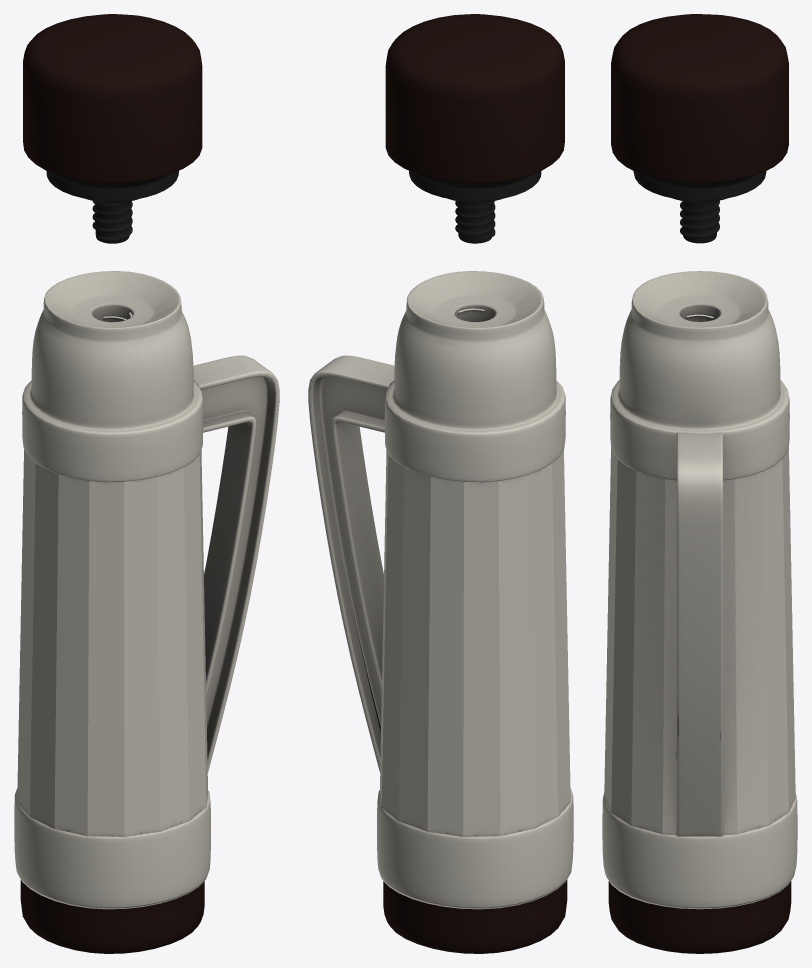
The model's file is objh.glb.
3 renders of one model, left to right at view 1: azimuth 30°, elevation 25°; view 2: azimuth 150°, elevation 25°; view 3: azimuth 270°, elevation 25°, orthographic.
Parts seen in each view (by area): view 1: coffeebottle; view 2: coffeebottle; view 3: coffeebottle.
Boxes of the visible parts, x1,y1,x2,y2 form: coffeebottle: [14, 14, 279, 953]; coffeebottle: [308, 14, 573, 953]; coffeebottle: [602, 14, 797, 953].
Size of the model in its own units: 0.1008 by 0.3517 by 0.0708.
Materials: 1 (1 with a texture image).
